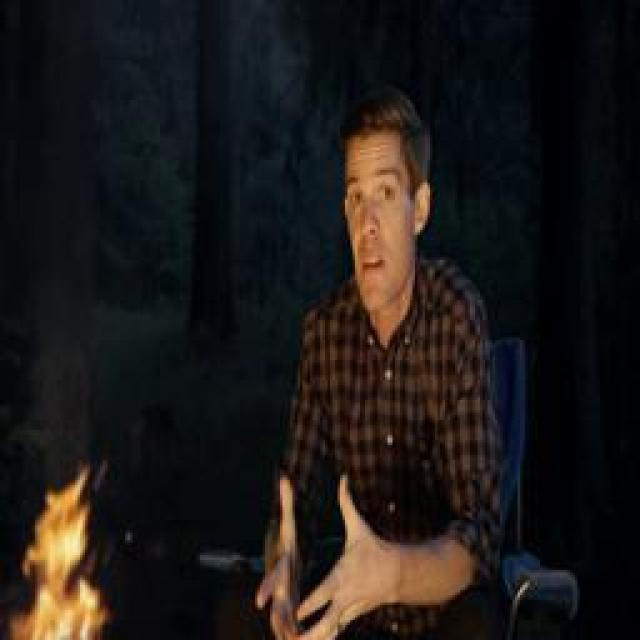Fire: (10, 465, 108, 640)
